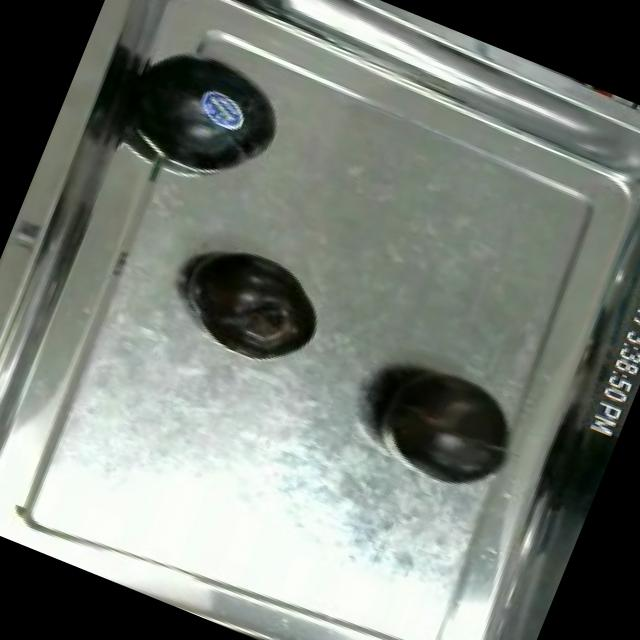Fruit: (108, 27, 304, 202), (354, 342, 535, 504), (174, 228, 342, 372)
